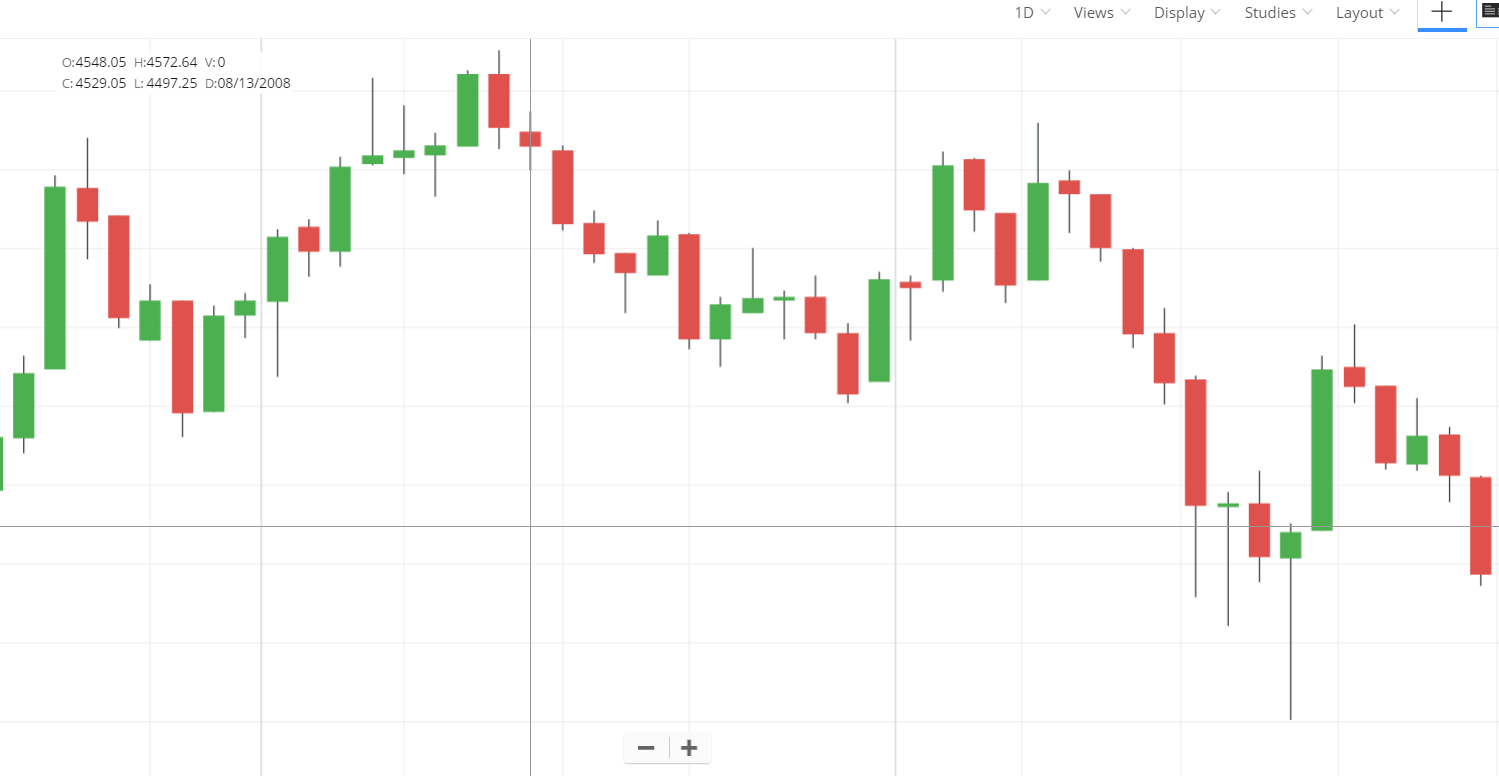doji: (1273, 513, 1307, 726), (1212, 468, 1245, 632), (355, 71, 392, 175), (1053, 161, 1089, 242), (417, 119, 449, 208), (894, 266, 927, 349), (390, 95, 419, 175), (767, 282, 800, 345)
